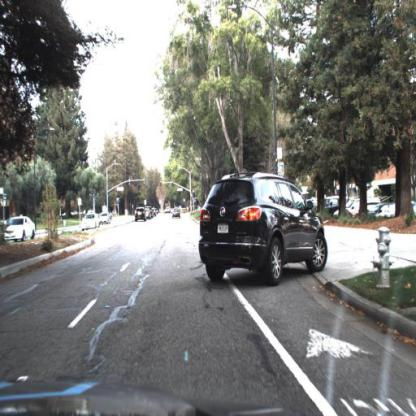car: (198, 168, 330, 286), (2, 218, 37, 245), (79, 212, 100, 232), (82, 214, 100, 231), (134, 205, 148, 224), (171, 205, 185, 219), (100, 212, 112, 228), (135, 209, 147, 225)
